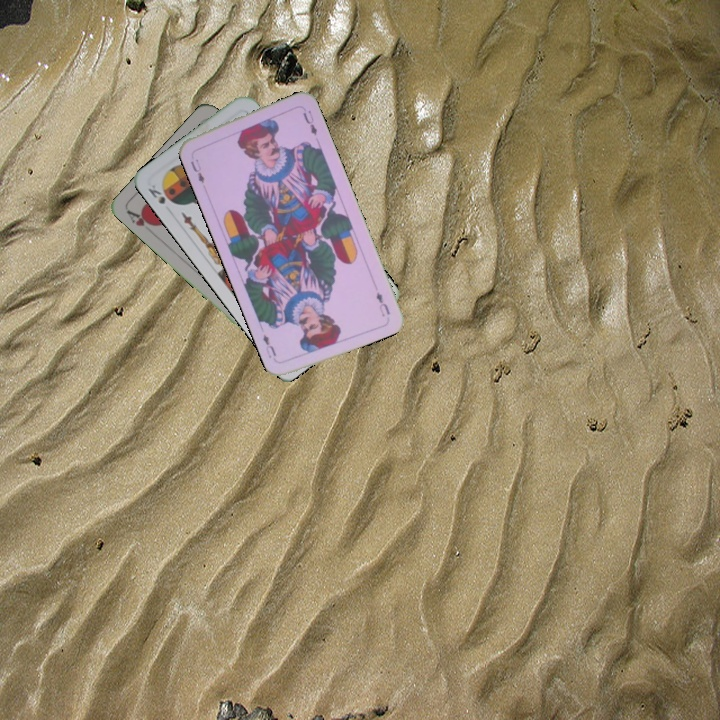EU: (186, 155, 207, 186), (372, 288, 393, 319)
HA: (123, 206, 160, 230)
SK: (144, 180, 168, 207)
